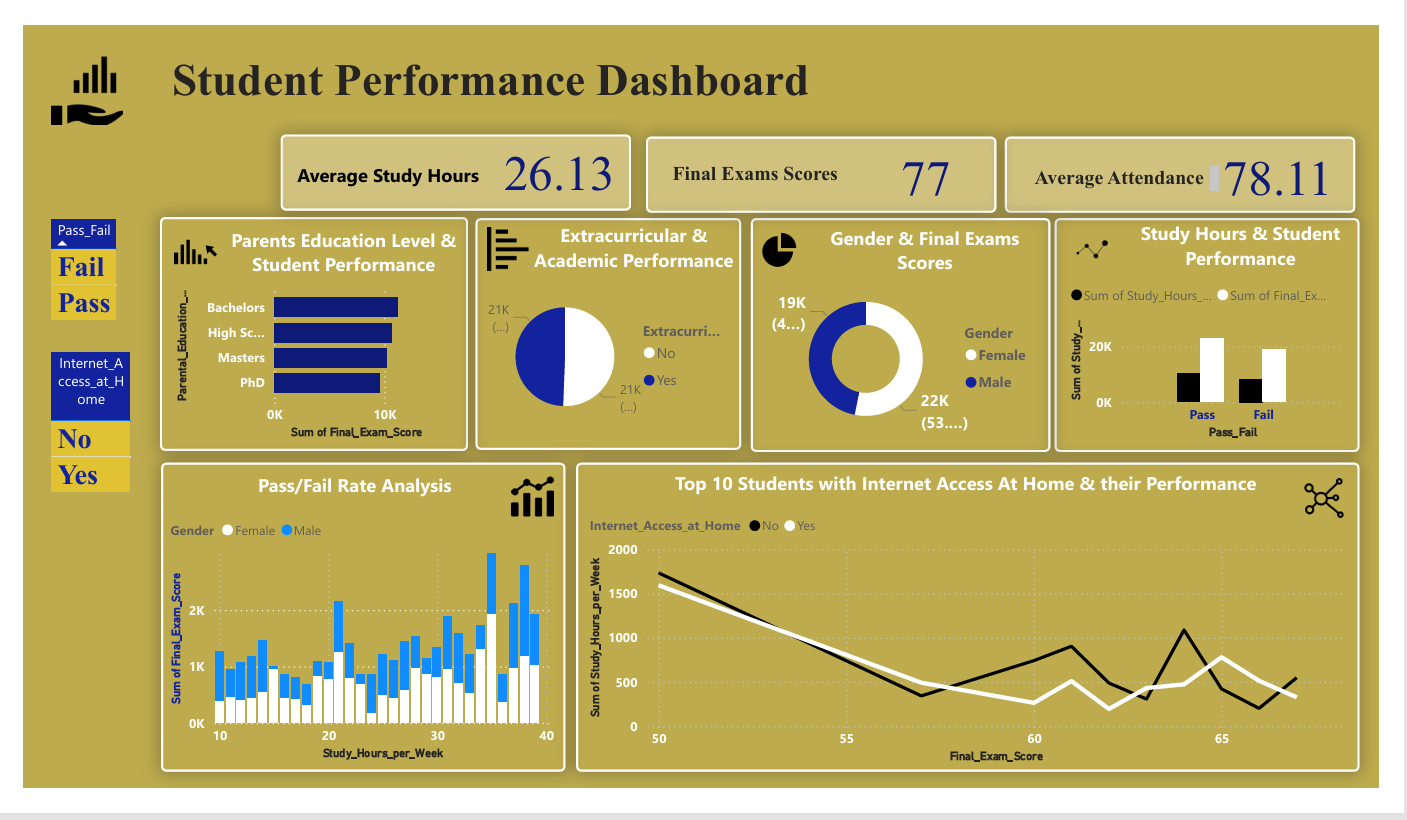

This screenshot's page, from the dashboard's own definition file:
{"tool":"powerbi","page":{"name":"Dashboard","canvas":[1280,720],"ordinal":0},"visuals":[{"type":"shape","box":[974.2,182.3,287.6,220.8],"z":0},{"type":"textbox","box":[128.8,22.3,625.1,58.9],"z":1000},{"type":"shape","box":[927.3,105,330.8,71.6],"z":2000},{"type":"shape","box":[128.8,181.3,291.1,221.1],"z":3000},{"type":"shape","box":[427.3,182.3,251.1,218.7],"z":4000},{"type":"shape","box":[686.6,182.3,283.5,220.8],"z":5000},{"type":"shape","box":[129.6,413.2,382.8,291.6],"z":6000},{"type":"shape","box":[521.7,413.3,740,291.7],"z":7000},{"type":"card","fields":{"Values":["Avg(student_performance_dataset.Attendance_Rate)"]},"box":[1118,105.3,133.7,70.9],"z":8000},{"type":"textbox","box":[949.9,127.6,184.3,34.4],"z":9000},{"type":"lineStackedColumnComboChart","fields":{"Category":["student_performance_dataset.Study_Hours_per_Week"],"Series":["student_performance_dataset.Gender"],"Y":["Sum(student_performance_dataset.Final_Exam_Score)"]},"box":[133.6,456.5,372.2,241.8],"z":10000},{"type":"lineClusteredColumnComboChart","fields":{"Category":["student_performance_dataset.Pass_Fail"],"Y":["Sum(student_performance_dataset.Study_Hours_per_Week)","Sum(student_performance_dataset.Final_Exam_Score)"]},"box":[984.3,234.9,267.3,160],"z":11000},{"type":"lineChart","fields":{"Series":["student_performance_dataset.Internet_Access_at_Home"],"Category":["student_performance_dataset.Final_Exam_Score"],"Y":["Sum(student_performance_dataset.Study_Hours_per_Week)"]},"box":[530.1,452.7,722.7,248.2],"z":12000},{"type":"pieChart","fields":{"Category":["student_performance_dataset.Extracurricular_Activities"],"Y":["Sum(student_performance_dataset.Final_Exam_Score)"]},"box":[433.4,232.9,237,160],"z":13000},{"type":"clusteredBarChart","fields":{"Category":["student_performance_dataset.Parental_Education_Level"],"Y":["Sum(student_performance_dataset.Final_Exam_Score)"]},"box":[139.7,234.9,269.4,160],"z":14000},{"type":"donutChart","fields":{"Category":["student_performance_dataset.Gender"],"Y":["Sum(student_performance_dataset.Final_Exam_Score)"]},"box":[696.7,232.9,265.3,164.1],"z":15000},{"type":"image","box":[20.7,22.3,79.5,77.9],"z":16000},{"type":"image","box":[688.6,186.3,50.6,50.6],"z":17000},{"type":"image","box":[433.4,186.3,50.6,50.6],"z":18000},{"type":"image","box":[137.7,188.4,50.6,50.6],"z":19000},{"type":"image","box":[455.7,419.2,50.6,50.6],"z":20000},{"type":"image","box":[1203,421.3,50.6,50.6],"z":21000},{"type":"image","box":[984.3,186.3,50.6,50.6],"z":22000},{"type":"actionButton","box":[192.4,182.3,220.8,60.8],"z":23000},{"type":"actionButton","box":[607.6,400.8,564.7,60.4],"z":24000},{"type":"actionButton","box":[465.8,178.2,220.8,60.8],"z":25000},{"type":"actionButton","box":[202.5,403,220.8,60.8],"z":26000},{"type":"actionButton","box":[741.3,180.3,220.8,60.8],"z":27000},{"type":"actionButton","box":[1039,176.2,220.8,60.8],"z":28000},{"type":"tableEx","fields":{"Values":["student_performance_dataset.Pass_Fail Hierarchy.Pass_Fail"]},"box":[6.1,178.2,105.3,115.4],"z":29000},{"type":"shape","box":[587.7,105.2,331.6,71.5],"z":30000},{"type":"tableEx","fields":{"Values":["student_performance_dataset.Internet_Access_at_Home"]},"box":[6.1,303.8,105.3,143.8],"z":31000},{"type":"card","fields":{"Values":["Max(student_performance_dataset.Final_Exam_Score)"]},"box":[785.8,105.3,133.7,70.9],"z":32000},{"type":"textbox","box":[607.6,123.5,184.3,34.4],"z":33000},{"type":"shape","box":[243.4,103.4,330.8,71.6],"z":34000},{"type":"card","fields":{"Values":["Avg(student_performance_dataset.Study_Hours_per_Week)"]},"box":[439,100.2,133.6,71.6],"z":35000},{"type":"actionButton","box":[233.8,109.8,221.1,60.4],"z":36000}]}

Visuals, with their boxes on the page's 1280x720 design canvas (x1, y1, x2, y2). These are canvas units, not pixel positions in the 1407x820 screenshot, which may show the page scaled, cropped or inside an application window:
shape: (x1=974, y1=182, x2=1262, y2=403)
textbox: (x1=129, y1=22, x2=754, y2=81)
shape: (x1=927, y1=105, x2=1258, y2=177)
shape: (x1=129, y1=181, x2=420, y2=402)
shape: (x1=427, y1=182, x2=678, y2=401)
shape: (x1=687, y1=182, x2=970, y2=403)
shape: (x1=130, y1=413, x2=512, y2=705)
shape: (x1=522, y1=413, x2=1262, y2=705)
card - Avg(student_performance_dataset.Attendance_Rate): (x1=1118, y1=105, x2=1252, y2=176)
textbox: (x1=950, y1=128, x2=1134, y2=162)
lineStackedColumnComboChart - student_performance_dataset.Study_Hours_per_Week x student_performance_dataset.Gender: (x1=134, y1=456, x2=506, y2=698)
lineClusteredColumnComboChart - student_performance_dataset.Pass_Fail x Sum(student_performance_dataset.Study_Hours_per_Week): (x1=984, y1=235, x2=1252, y2=395)
lineChart - student_performance_dataset.Internet_Access_at_Home x student_performance_dataset.Final_Exam_Score: (x1=530, y1=453, x2=1253, y2=701)
pieChart - student_performance_dataset.Extracurricular_Activities x Sum(student_performance_dataset.Final_Exam_Score): (x1=433, y1=233, x2=670, y2=393)
clusteredBarChart - student_performance_dataset.Parental_Education_Level x Sum(student_performance_dataset.Final_Exam_Score): (x1=140, y1=235, x2=409, y2=395)
donutChart - student_performance_dataset.Gender x Sum(student_performance_dataset.Final_Exam_Score): (x1=697, y1=233, x2=962, y2=397)
image: (x1=21, y1=22, x2=100, y2=100)
image: (x1=689, y1=186, x2=739, y2=237)
image: (x1=433, y1=186, x2=484, y2=237)
image: (x1=138, y1=188, x2=188, y2=239)
image: (x1=456, y1=419, x2=506, y2=470)
image: (x1=1203, y1=421, x2=1254, y2=472)
image: (x1=984, y1=186, x2=1035, y2=237)
actionButton: (x1=192, y1=182, x2=413, y2=243)
actionButton: (x1=608, y1=401, x2=1172, y2=461)
actionButton: (x1=466, y1=178, x2=687, y2=239)
actionButton: (x1=202, y1=403, x2=423, y2=464)
actionButton: (x1=741, y1=180, x2=962, y2=241)
actionButton: (x1=1039, y1=176, x2=1260, y2=237)
tableEx - student_performance_dataset.Pass_Fail Hierarchy.Pass_Fail: (x1=6, y1=178, x2=111, y2=294)
shape: (x1=588, y1=105, x2=919, y2=177)
tableEx - student_performance_dataset.Internet_Access_at_Home: (x1=6, y1=304, x2=111, y2=448)
card - Max(student_performance_dataset.Final_Exam_Score): (x1=786, y1=105, x2=920, y2=176)
textbox: (x1=608, y1=124, x2=792, y2=158)
shape: (x1=243, y1=103, x2=574, y2=175)
card - Avg(student_performance_dataset.Study_Hours_per_Week): (x1=439, y1=100, x2=573, y2=172)
actionButton: (x1=234, y1=110, x2=455, y2=170)
